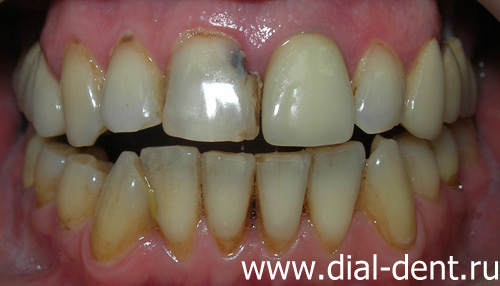LL1BC_healthy: (402, 138, 442, 202)
LL2BC_healthy: (435, 136, 460, 188)
LLCI_decay: (252, 150, 310, 255)
LLC_healthy: (364, 135, 420, 250)
LLLI_healthy: (309, 144, 364, 252)
LR1BC_healthy: (59, 153, 107, 231)
LR2BC_healthy: (34, 144, 59, 204)
LRCI_decay: (201, 149, 252, 260)
LRC_decay: (87, 153, 155, 259)
LRLI_decay: (143, 144, 207, 254)
UL1BC_healthy: (442, 44, 467, 121)
ULCI_healthy: (255, 31, 356, 145)
ULC_healthy: (405, 35, 444, 139)
ULLI_healthy: (355, 39, 406, 132)
UR1BC_healthy: (33, 60, 64, 138)
URCI_decay: (161, 32, 260, 142)
URC_healthy: (56, 40, 105, 148)
URLI_healthy: (101, 36, 166, 131)
